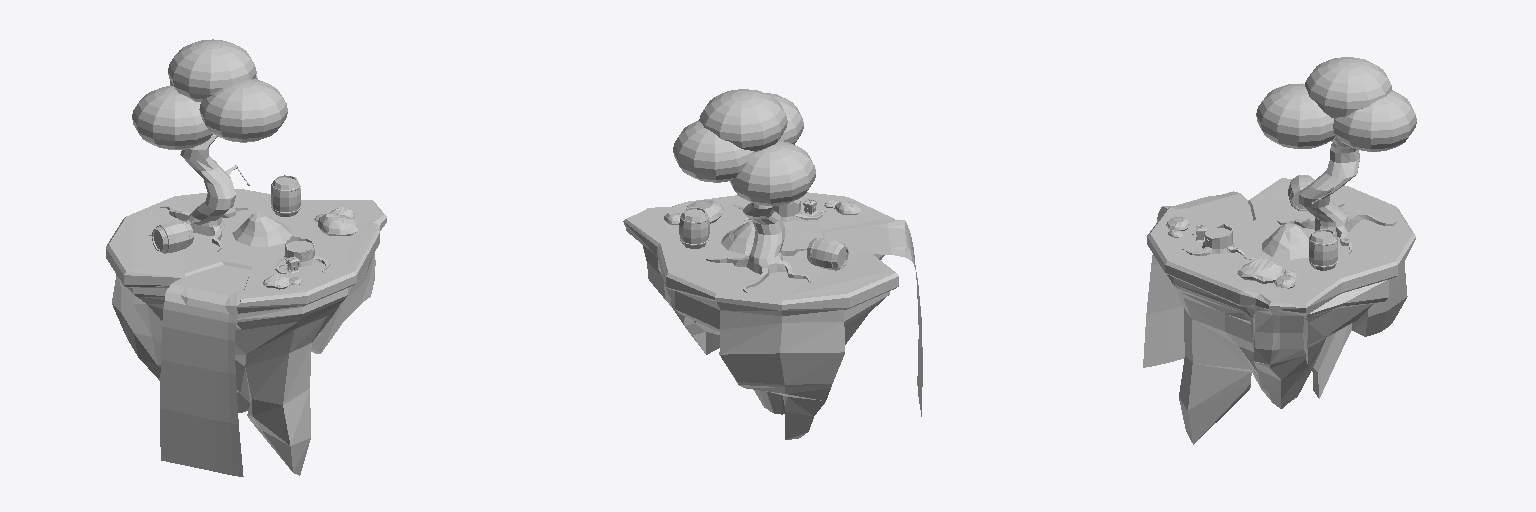
File: ostrvo.obj
The picture shows the model from 3 angles: view 1: azimuth 30°, elevation 25°; view 2: azimuth 150°, elevation 25°; view 3: azimuth 270°, elevation 25°; orthographic projection.
Parts seen in each view (by area): view 1: polySurface29; view 2: polySurface29; view 3: polySurface29.
Part boxes in pixels (bbox=[...]): polySurface29: bbox=[106, 39, 386, 476]; polySurface29: bbox=[623, 89, 922, 439]; polySurface29: bbox=[1143, 57, 1416, 444].
Size of the model in its own units: 291 by 398 by 262.